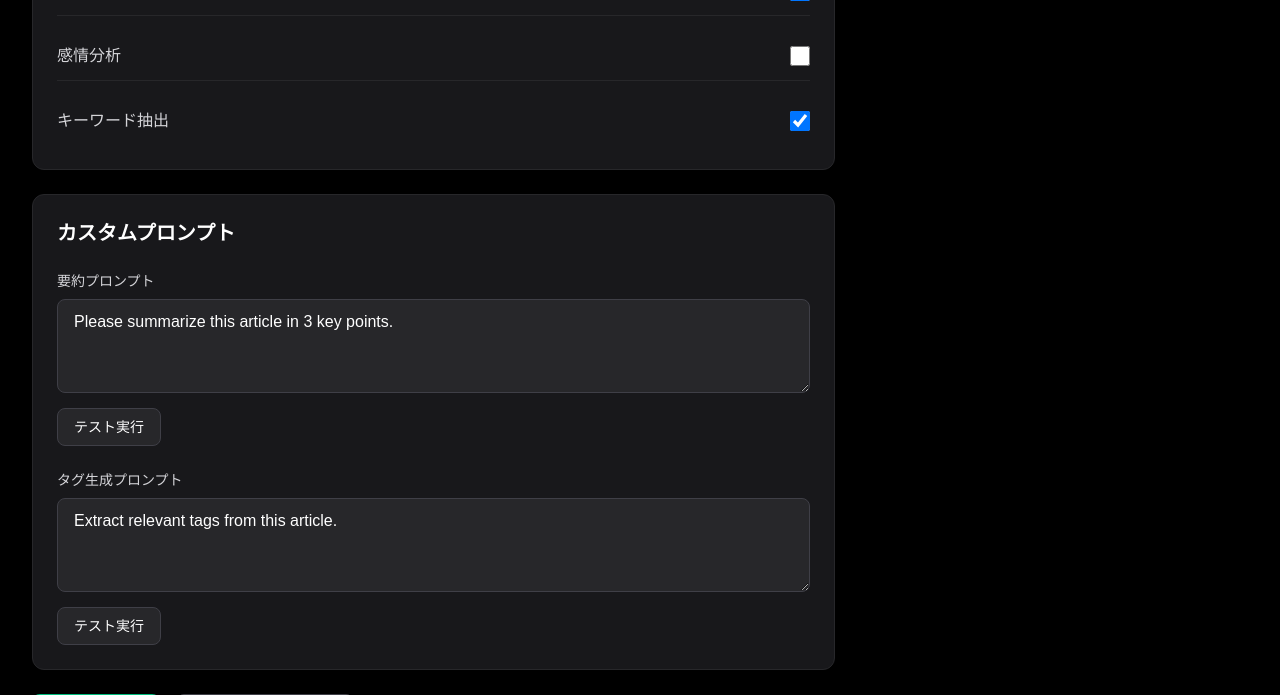
AISettingsPage › should update custom prompts
The width and height of the screenshot is (1280, 695).
(page scrolled)
Replace the text in the text box labelled "要約プロンプト" with "Summarize this article focusing on business impact." at (433, 346), box [57, 299, 810, 393]
(page scrolled)
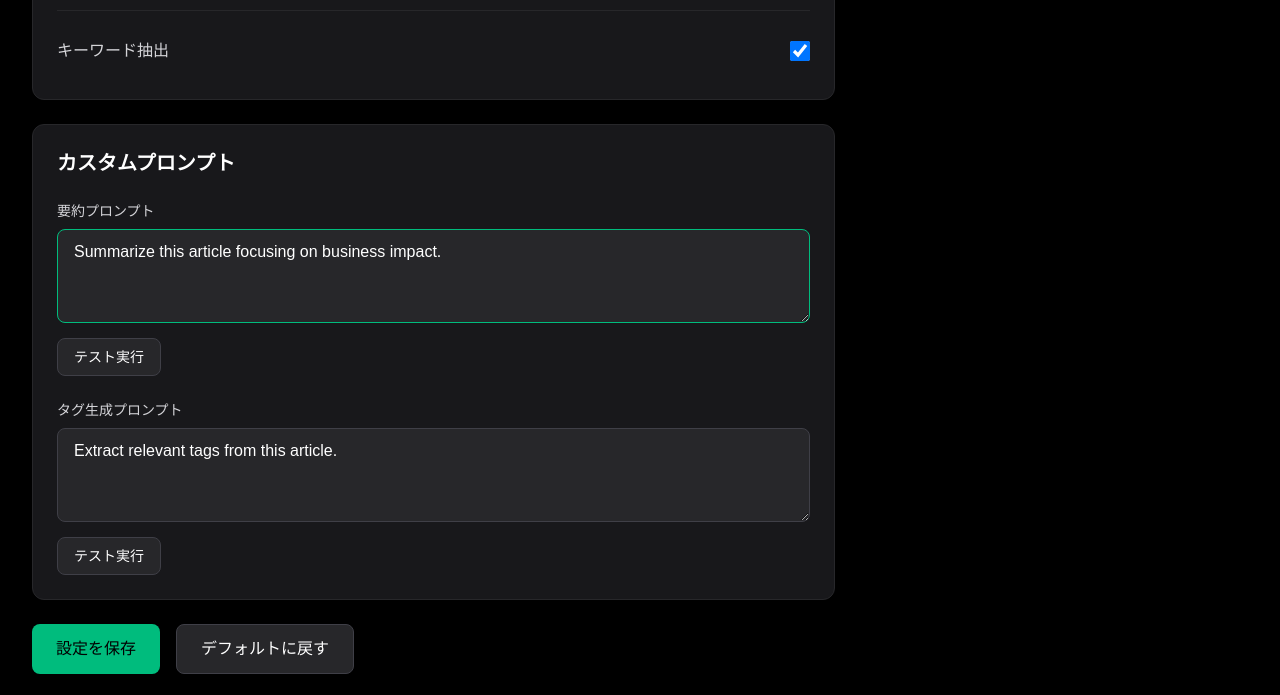
Click the button "設定を保存" at (96, 649), box [32, 624, 160, 674]
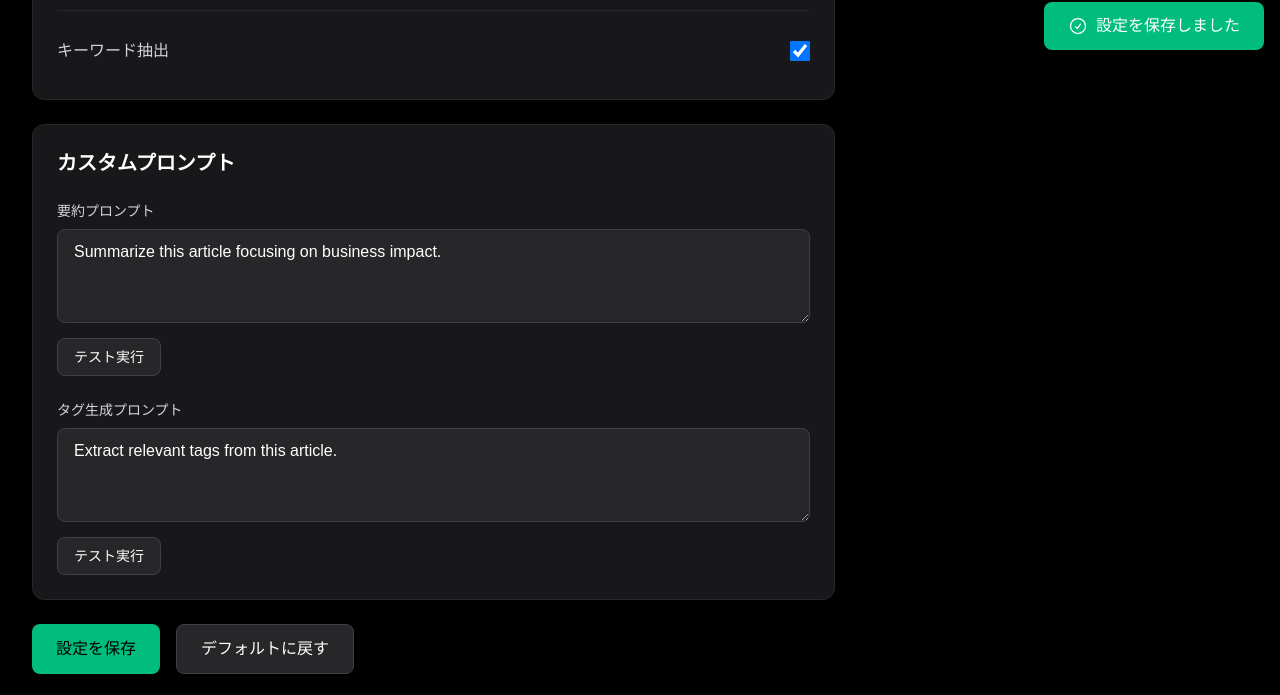
Expected: the text "設定を保存しました" is shown, [1096, 14, 1240, 38]
